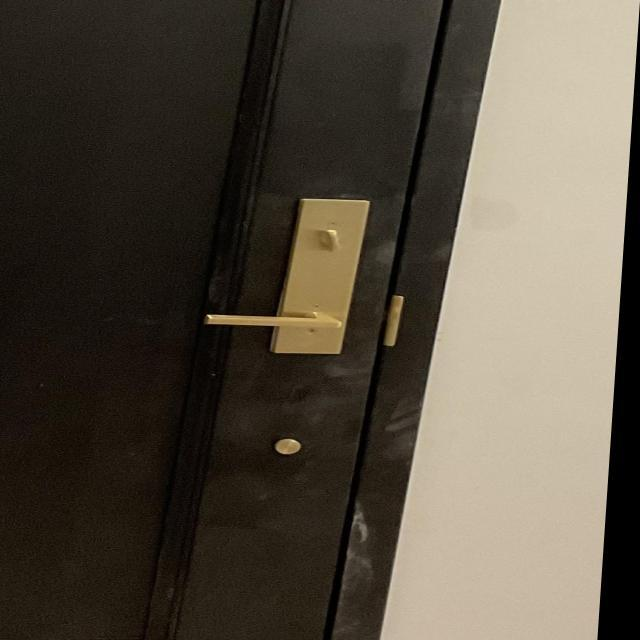door_handle: (189, 295, 380, 343)
